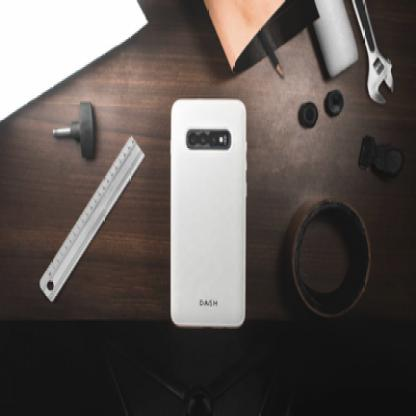cell-phone: (162, 94, 255, 336)
